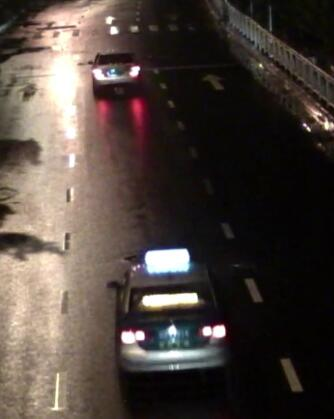car: (106, 249, 232, 376), (86, 49, 140, 91)
